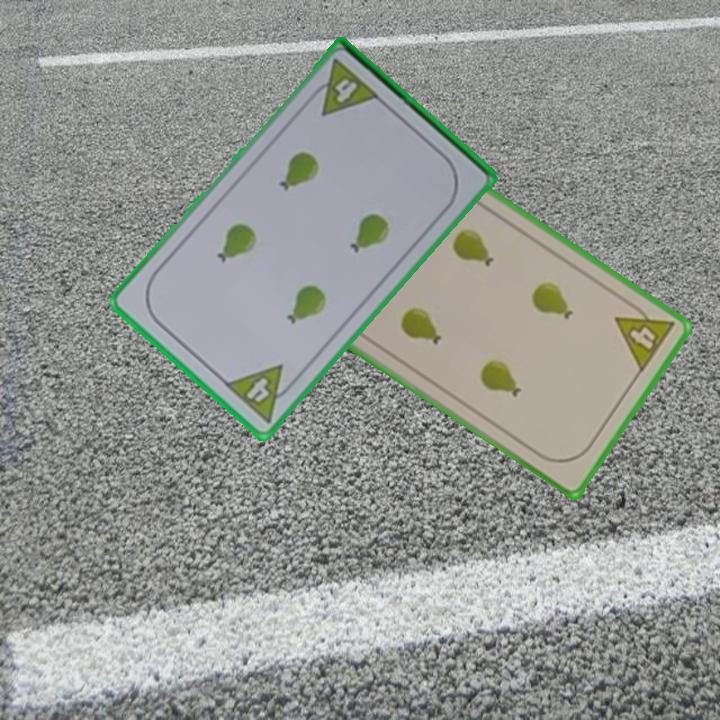4p: (611, 296, 678, 376), (220, 361, 301, 426), (304, 56, 383, 119)
